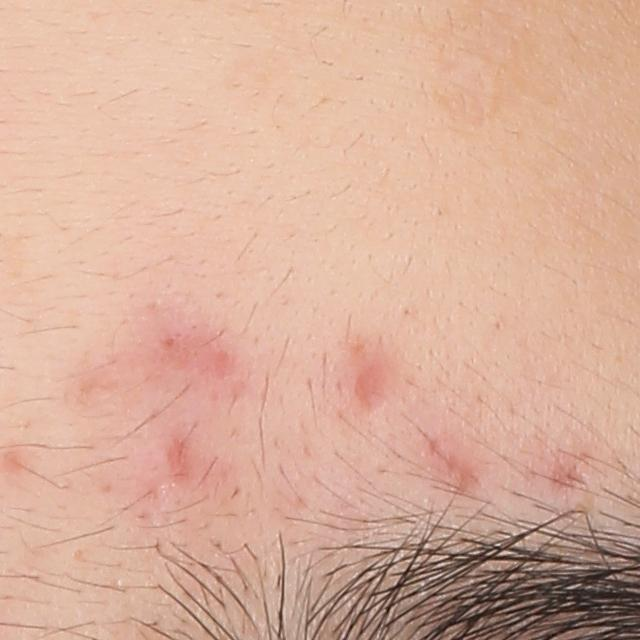atrophic_scar: (355, 358, 393, 414)
papule: (440, 465, 472, 494)
